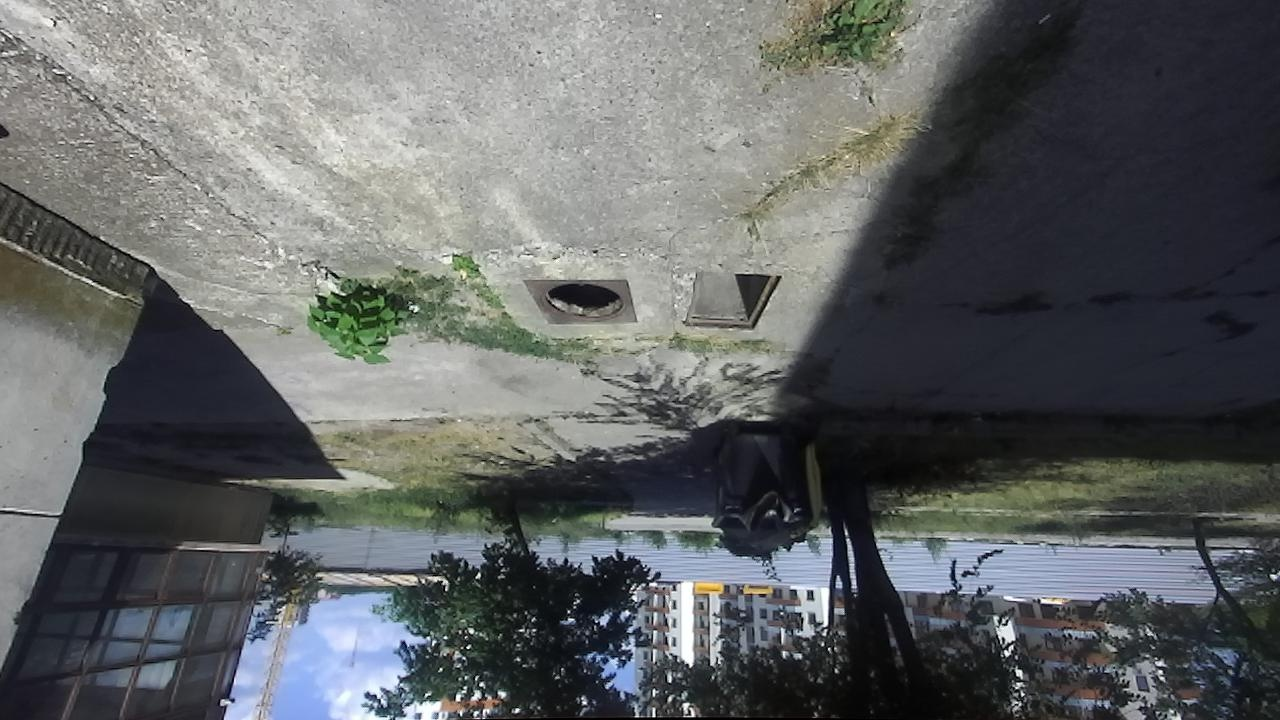drain: (676, 271, 785, 333), (537, 283, 626, 323)
